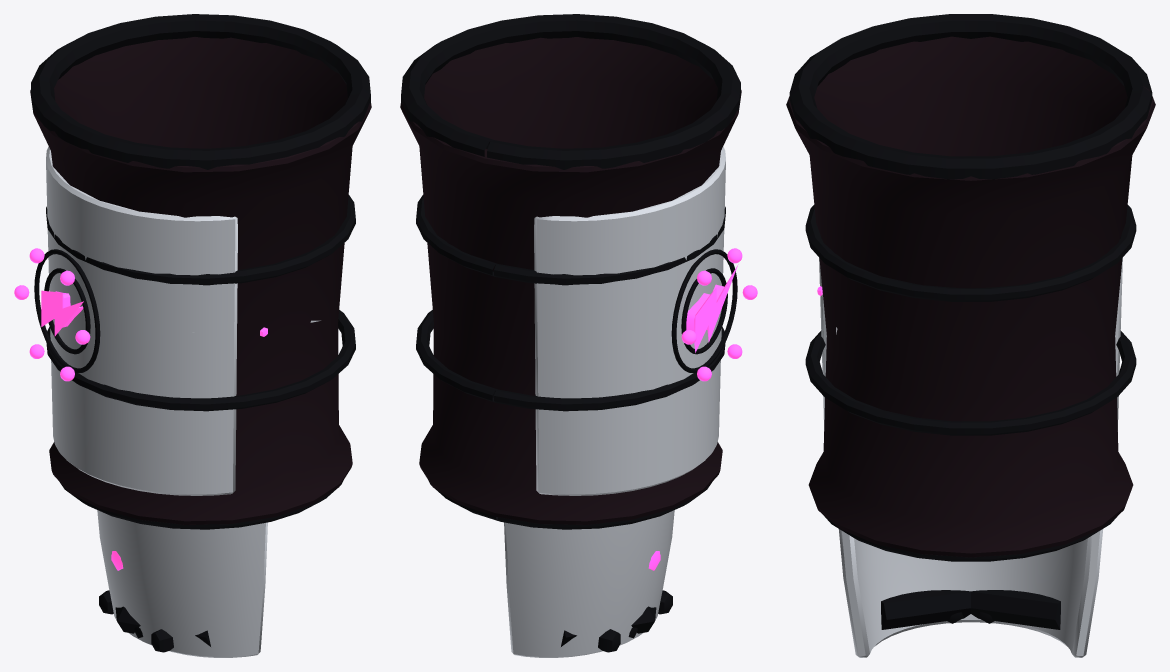
File: esc_hollow_eclipse_gloves_R.glb
3 renders of one model, left to right at view 1: azimuth 30°, elevation 25°; view 2: azimuth 150°, elevation 25°; view 3: azimuth 270°, elevation 25°, orthographic. The views are drawn at different scales.
Visible parts, largest first — view 1: esc_hollow_eclipse_gloves, AT_hand_R; view 2: esc_hollow_eclipse_gloves, AT_hand_R; view 3: esc_hollow_eclipse_gloves, AT_hand_R.
Boxes of the visible parts, left/top/right/bottom form: esc_hollow_eclipse_gloves: left=14, top=14, right=371, bottom=529; AT_hand_R: left=97, top=510, right=267, bottom=657; esc_hollow_eclipse_gloves: left=400, top=14, right=757, bottom=529; AT_hand_R: left=504, top=510, right=674, bottom=657; esc_hollow_eclipse_gloves: left=786, top=14, right=1155, bottom=561; AT_hand_R: left=838, top=529, right=1103, bottom=657.
Bounding box in the file's own units: 0.202 × 0.3408 × 0.2004.
